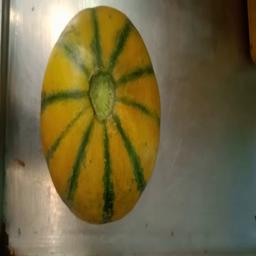Melon Fresh: (32, 7, 171, 228)
